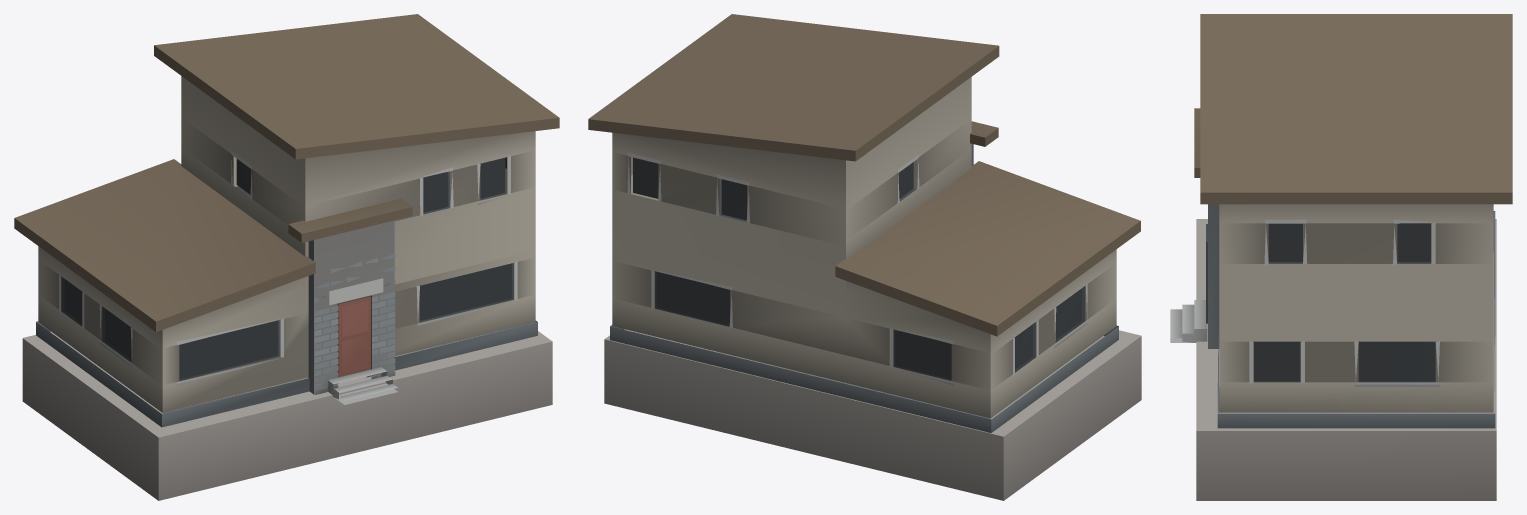
The model's file is split.lod.glb.
3 renders of one model, left to right at view 1: azimuth 30°, elevation 25°; view 2: azimuth 150°, elevation 25°; view 3: azimuth 270°, elevation 25°, orthographic. The views are drawn at different scales.
Parts seen in each view (by area): view 1: split; view 2: split; view 3: split.
Boxes of the visible parts, x1,y1,x2,y2 form: split: (14,14,559,500); split: (588,14,1141,500); split: (1170,14,1512,500).
Size of the model in its own units: 10.2 by 7.66 by 6.8.
